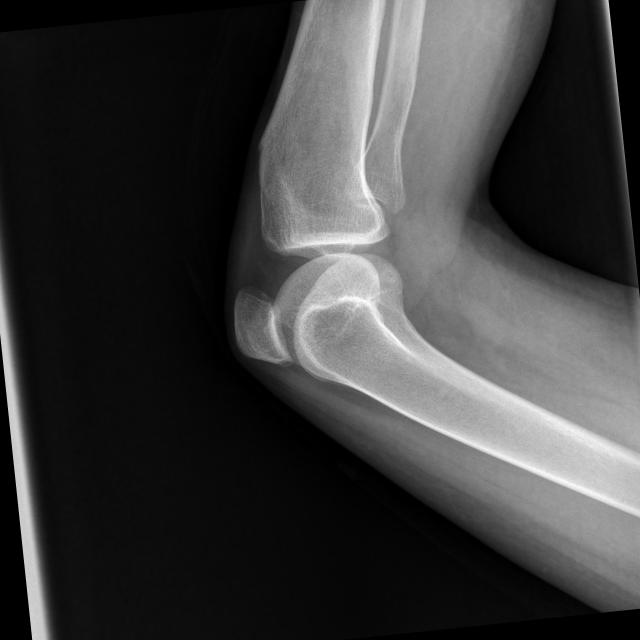Knee: (220, 183, 415, 372)
